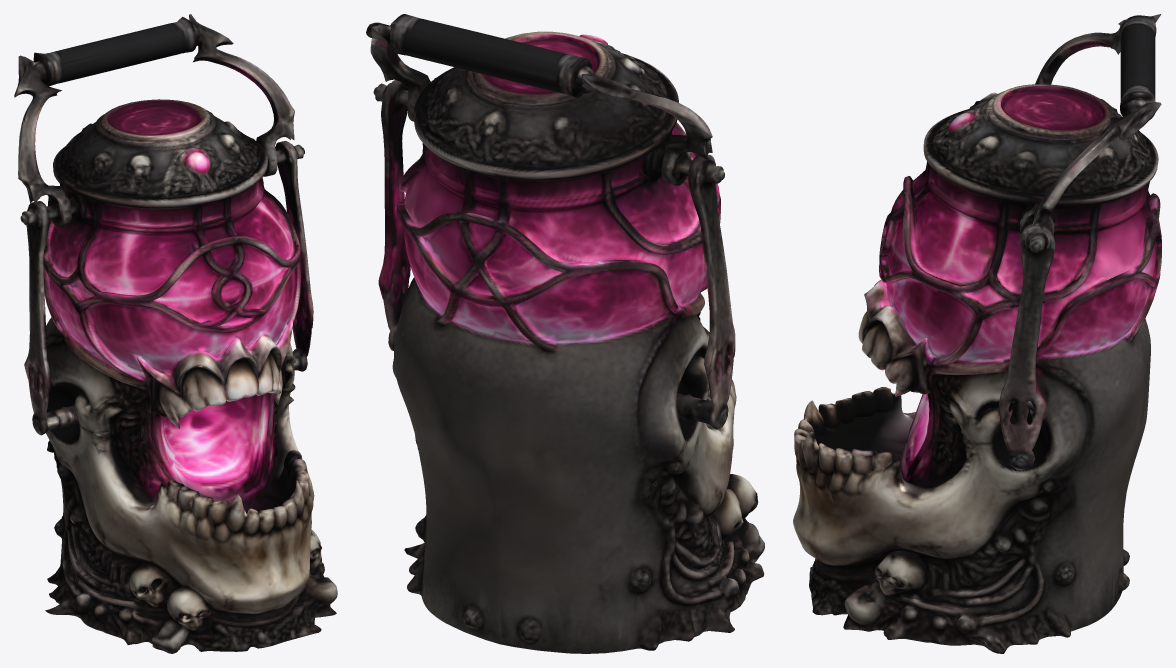
The model's file is pink.glb.
3 renders of one model, left to right at view 1: azimuth 30°, elevation 25°; view 2: azimuth 150°, elevation 25°; view 3: azimuth 270°, elevation 25°, orthographic. The views are drawn at different scales.
Visible parts, largest first — view 1: material; view 2: material; view 3: material.
Boxes of the visible parts, x1,y1,x2,y2 form: material: (14, 14, 337, 653); material: (366, 14, 764, 653); material: (793, 14, 1161, 653).
Bounding box in the file's own units: 0.5852 × 0.9843 × 0.6188.
Materials: 1 (1 with a texture image).
